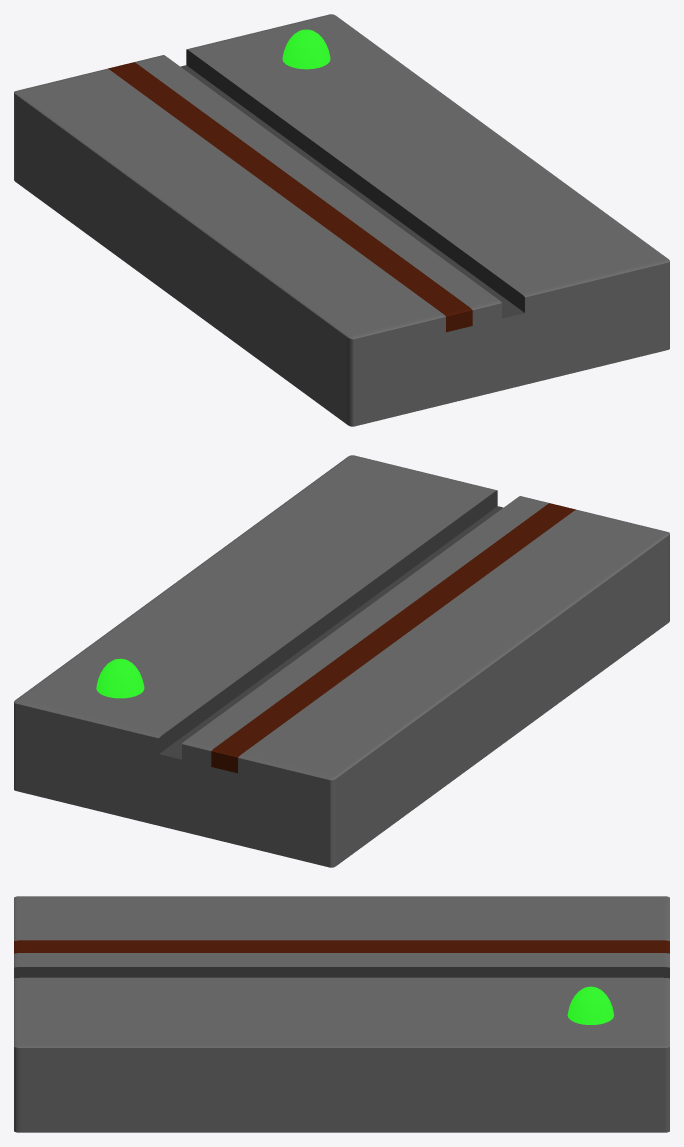
Rendered from BrownKeyCardScannerGL.glb.
The picture shows the model from 3 angles, top to bottom: view 1: azimuth 30°, elevation 25°; view 2: azimuth 150°, elevation 25°; view 3: azimuth 270°, elevation 25°; orthographic projection. The views are drawn at different scales.
Parts seen in each view (by area): view 1: Base, Light; view 2: Base, Light; view 3: Base, Light.
Boxes of the visible parts, x1,y1,x2,y2 form: Base: (14,14,669,426); Light: (282,29,330,69); Base: (14,455,669,867); Light: (96,658,144,698); Base: (14,896,669,1132); Light: (567,986,613,1024).
Bounding box in the file's own units: 0.055 × 0.0192 × 0.1006.
